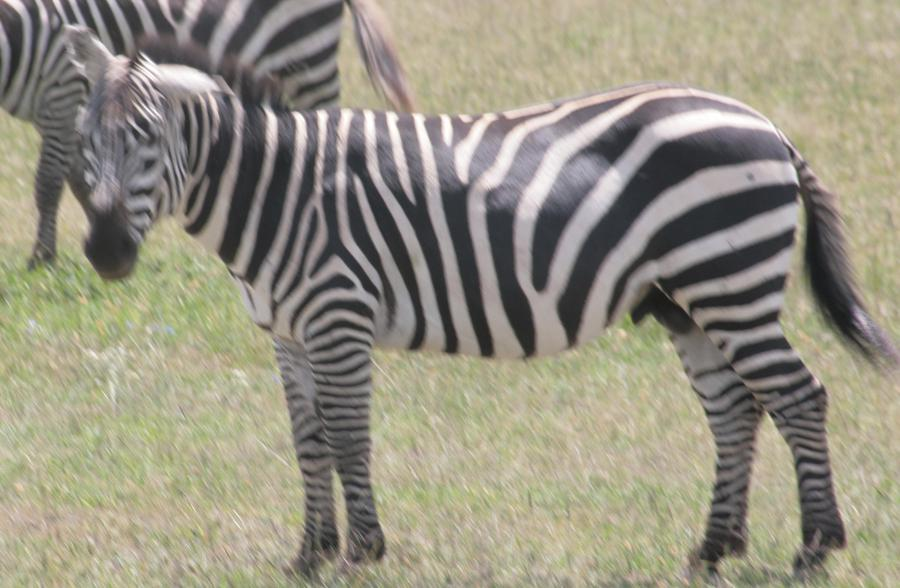zebra_plains: (270, 94, 780, 330)
